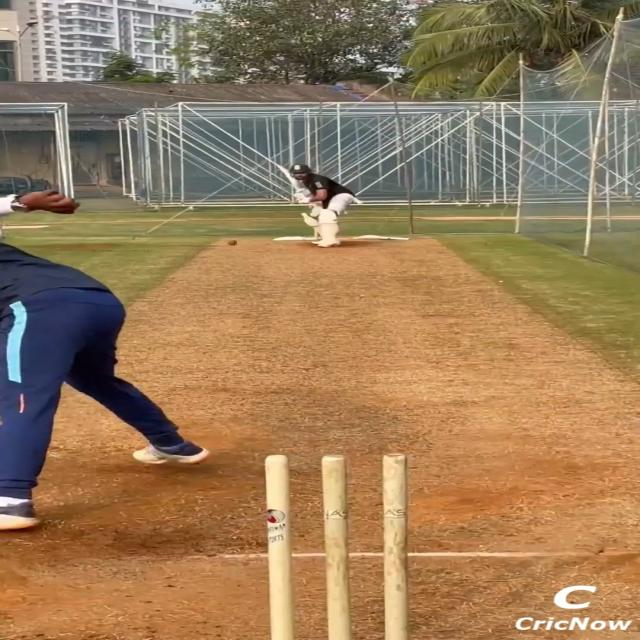Cricket ball: (261, 452, 410, 640), (227, 239, 238, 245)
